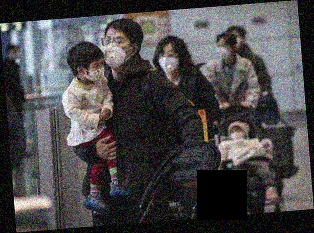with_mask: (103, 32, 131, 68), (157, 47, 178, 73), (86, 58, 105, 83), (213, 38, 230, 61), (228, 126, 246, 141)
